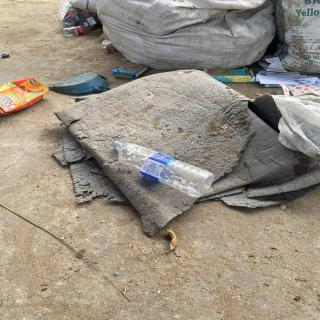Plastic-bottle: (111, 139, 218, 202), (60, 24, 99, 39)
